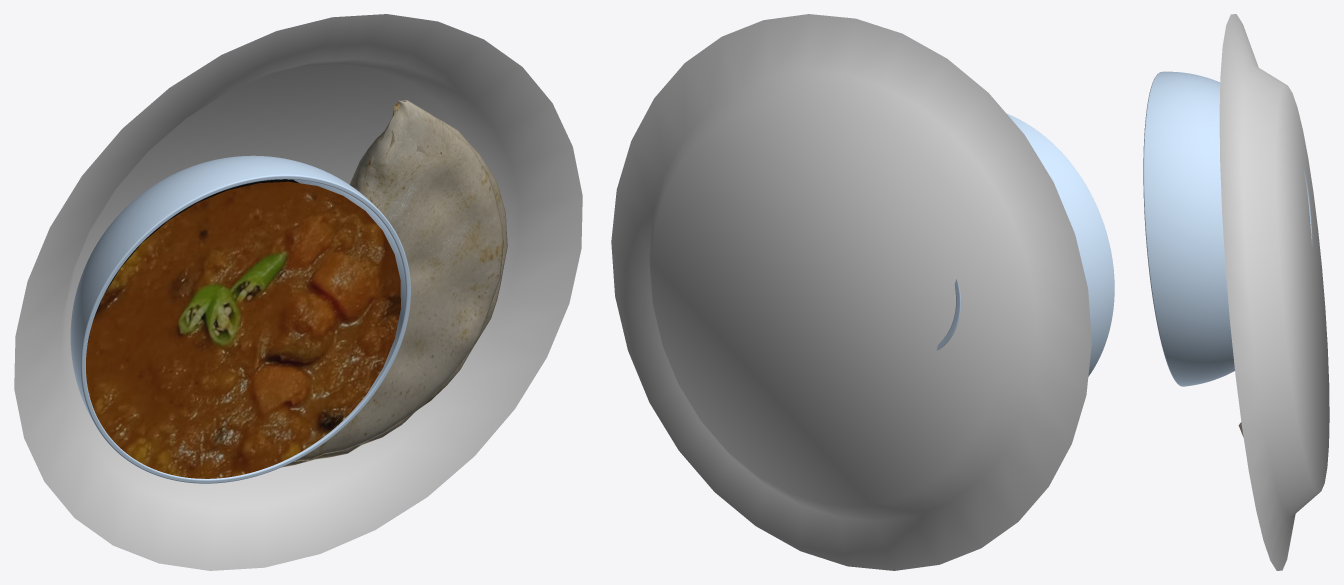
File: mixedmasala.glb
The picture shows the model from 3 angles, left to right: view 1: azimuth 30°, elevation 25°; view 2: azimuth 150°, elevation 25°; view 3: azimuth 270°, elevation 25°; orthographic projection. The views are drawn at different scales.
Parts seen in each view (by area): view 1: Circle.001, coffee.004, Cylinder.001, Kugel.005; view 2: Circle.001, Kugel.005; view 3: Circle.001, Kugel.005.
Boxes of the visible parts, left/top/right/bottom form: Circle.001: left=14, top=14, right=582, bottom=570; coffee.004: left=86, top=179, right=400, bottom=478; Cylinder.001: left=282, top=100, right=507, bottom=467; Kugel.005: left=70, top=155, right=410, bottom=483; Circle.001: left=611, top=14, right=1091, bottom=570; Kugel.005: left=936, top=113, right=1114, bottom=376; Circle.001: left=1219, top=14, right=1329, bottom=570; Kugel.005: left=1143, top=71, right=1312, bottom=386.
Size of the model in its own units: 6.23 by 6.2 by 2.08.
4 materials, 2 textured.
